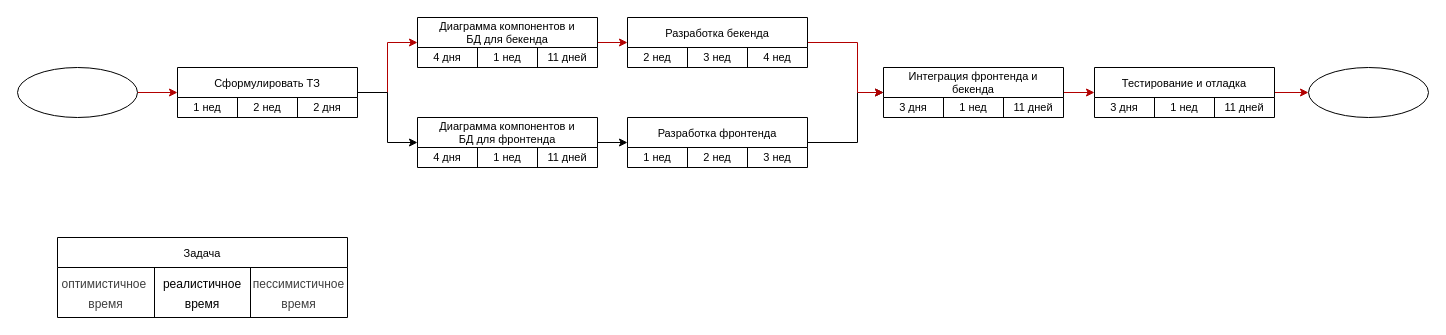
Some shapes in this 1446 by 335 pixel diagram are drawn without their labels. Here are the shapes that lost their labels. From the top down, the centre of each, then its label:
(x=77, y=92): Начало проекта
(x=1368, y=92): Завершение разработки проекта
